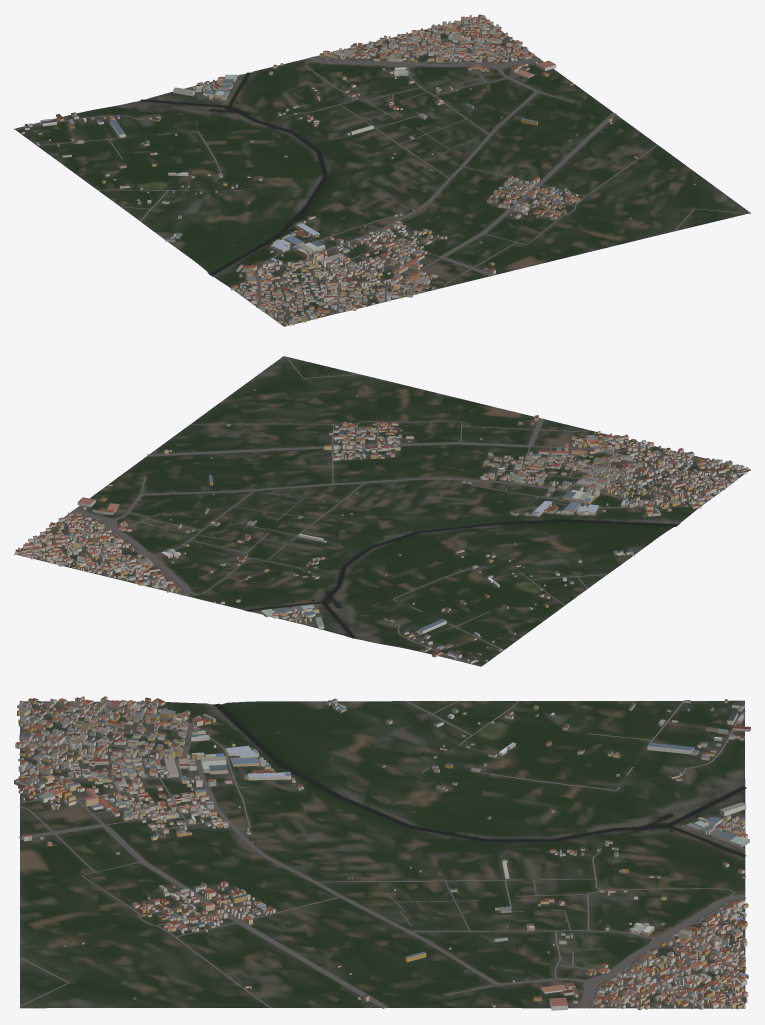
3 views of the same model, one above another, from view 1: azimuth 30°, elevation 25°; view 2: azimuth 150°, elevation 25°; view 3: azimuth 270°, elevation 25° (orthographic). The views are drawn at different scales.
Visible parts, largest first — view 1: ground, buildings, roads, water; view 2: ground, buildings, roads, water; view 3: ground, buildings, roads, water.
Boxes of the visible parts, left/top/right/bottom form: ground: left=14, top=17, right=750, bottom=326; buildings: left=21, top=14, right=695, bottom=325; roads: left=32, top=22, right=748, bottom=321; water: left=140, top=56, right=428, bottom=275; ground: left=14, top=356, right=750, bottom=666; buildings: left=15, top=389, right=748, bottom=663; roads: left=19, top=356, right=739, bottom=662; water: left=125, top=519, right=677, bottom=638; ground: left=19, top=700, right=745, bottom=1008; buildings: left=14, top=696, right=750, bottom=1010; roads: left=19, top=700, right=745, bottom=1008; water: left=214, top=703, right=746, bottom=954.
Size of the model in its own units: 1416 by 28.56 by 1424.
